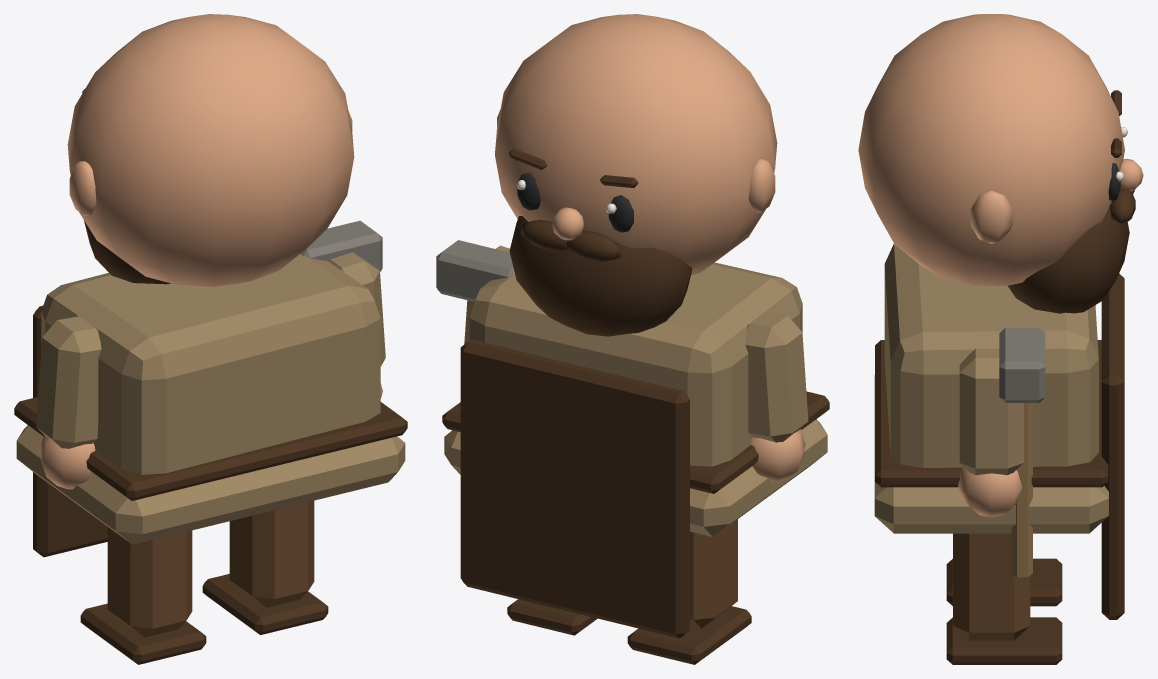
Rendered from blacksmith.fbx.
3 views of the same model, side by side, from view 1: azimuth 30°, elevation 25°; view 2: azimuth 150°, elevation 25°; view 3: azimuth 270°, elevation 25° (orthographic).
Visible parts, largest first — view 1: Body, Head, LegL, LegR, ArmL, Weapon, ArmR; view 2: Body, Head, ArmL, LegL, Weapon, LegR; view 3: Head, Body, LegR, ArmR, Weapon, LegL.
Part boxes in pixels (x1,y1,x2,y2): Body: (14,254,407,557); Head: (67,14,354,287); LegL: (80,527,206,664); LegR: (202,500,328,634); ArmL: (36,316,101,489); Weapon: (300,220,382,271); ArmR: (328,252,385,398); Body: (442,262,829,638); Head: (495,14,777,336); ArmL: (745,312,808,482); LegL: (627,519,751,664); Weapon: (436,240,514,302); LegR: (507,599,597,635); Head: (858,14,1143,313); Body: (874,244,1124,619); LegR: (946,533,1062,664); ArmR: (958,348,1023,517); Weapon: (999,327,1045,577); LegL: (946,558,1062,606).
Size of the model in its own units: 0.5167 by 0.3725 by 0.8559.
